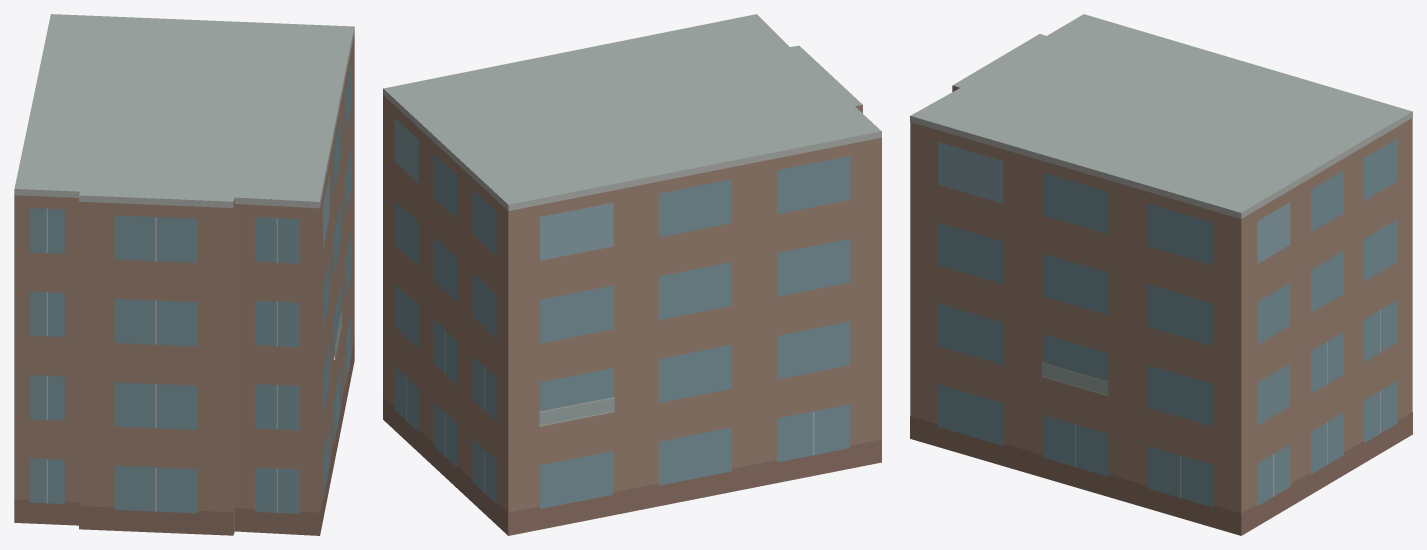
Rendered from survey-upis-32980788.glb.
3 renders of one model, left to right at view 1: azimuth 30°, elevation 25°; view 2: azimuth 150°, elevation 25°; view 3: azimuth 270°, elevation 25°, orthographic. The views are drawn at different scales.
Parts seen in each view (by area): view 1: survey-upis-32980788.tmp; view 2: survey-upis-32980788.tmp; view 3: survey-upis-32980788.tmp.
Boxes of the visible parts, x1,y1,x2,y2 form: survey-upis-32980788.tmp: [14, 14, 354, 535]; survey-upis-32980788.tmp: [383, 14, 881, 535]; survey-upis-32980788.tmp: [910, 14, 1412, 535].
Size of the model in its own units: 16.91 by 12.79 by 18.05.
